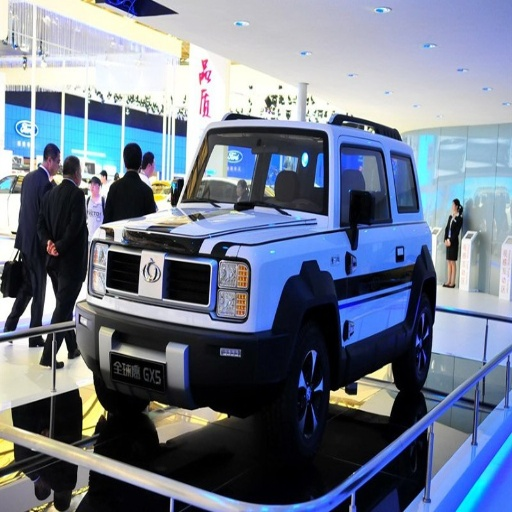front_bumper: (74, 224, 258, 398)
front_glass: (189, 134, 326, 212)
front_left_door: (339, 146, 396, 343)
trunk: (253, 228, 340, 335)
